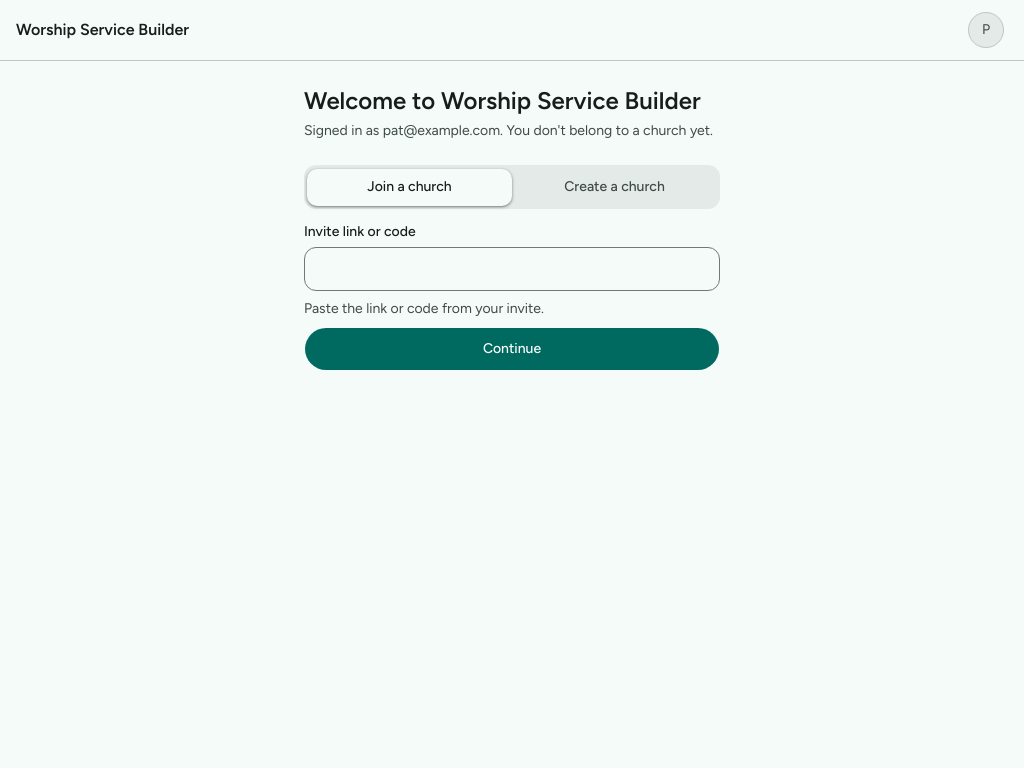
Test: /welcome (S Flow A, Flow C) › changing the tab replaces the URL without scrolling
Click the tab "Create a church" at (614, 187), box [512,168,717,206]
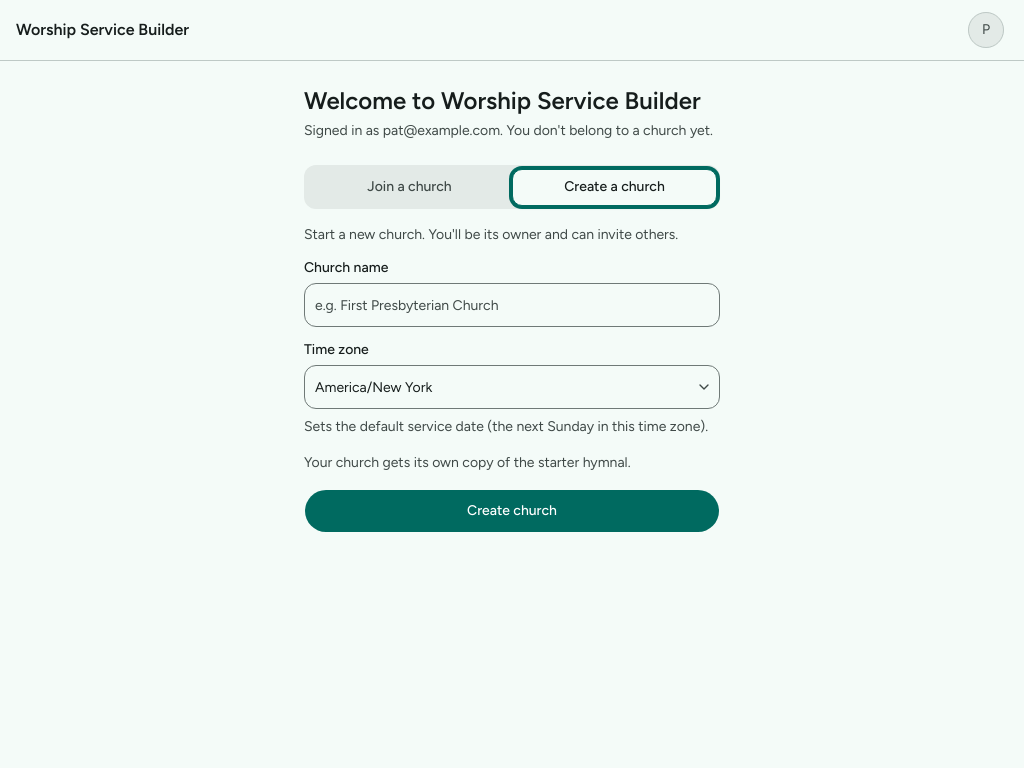
Now the text "Start a new church. You'll be its owner and can invite others." is shown, box [304,225,720,245]
Click the tab "Join a church" at (410, 187), box [307,168,512,206]
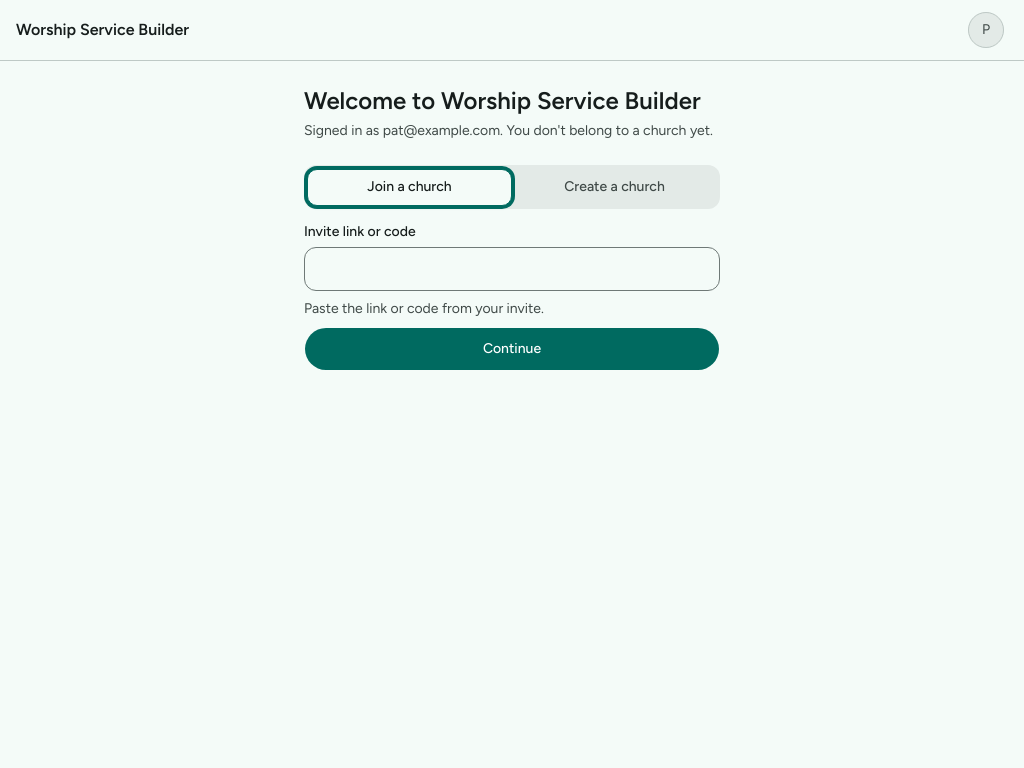
Now the field labelled "Invite link or code" is shown, box [304,247,720,291]
